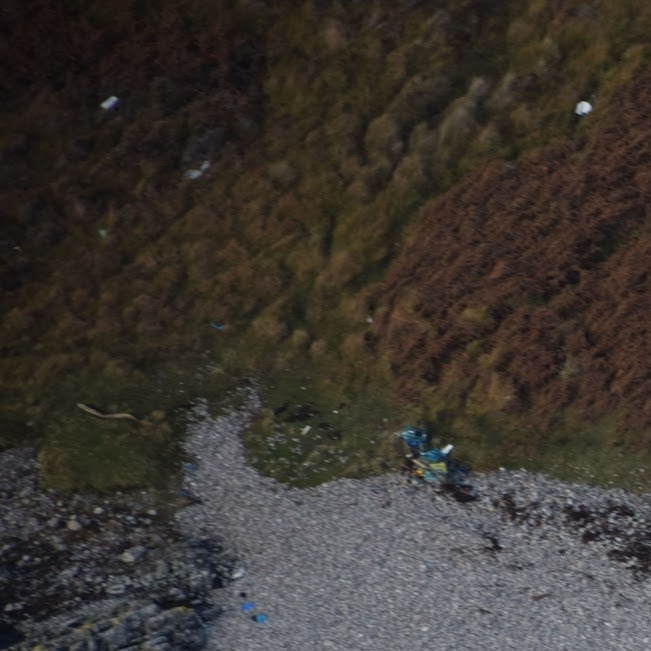scattered_barrel: (220, 560, 274, 629)
together_barrel: (393, 424, 464, 497)
tube: (73, 395, 141, 427)
white_in_green: (543, 68, 620, 138), (70, 67, 147, 137)
